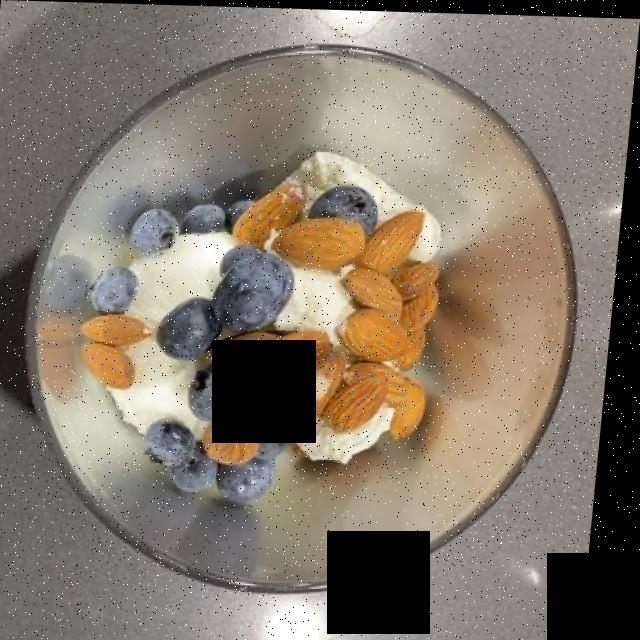almonds: (86, 196, 440, 462)
yogurt: (88, 156, 441, 503)
